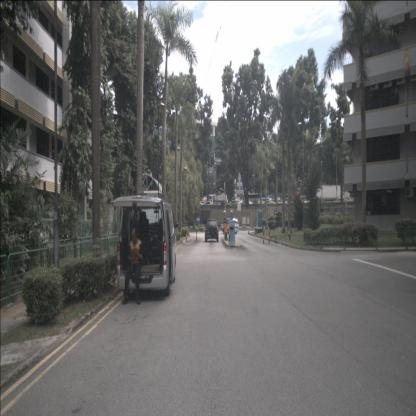human-pedestrian-adult: (122, 227, 143, 305)
vehicle-bus-rigid: (242, 194, 262, 203)
vehicle-car: (111, 195, 176, 296), (205, 219, 219, 242), (258, 198, 270, 208), (240, 200, 253, 209), (195, 200, 206, 209), (203, 201, 214, 209)
vehicle-truck: (307, 185, 342, 204), (220, 218, 239, 235), (209, 194, 227, 205)
